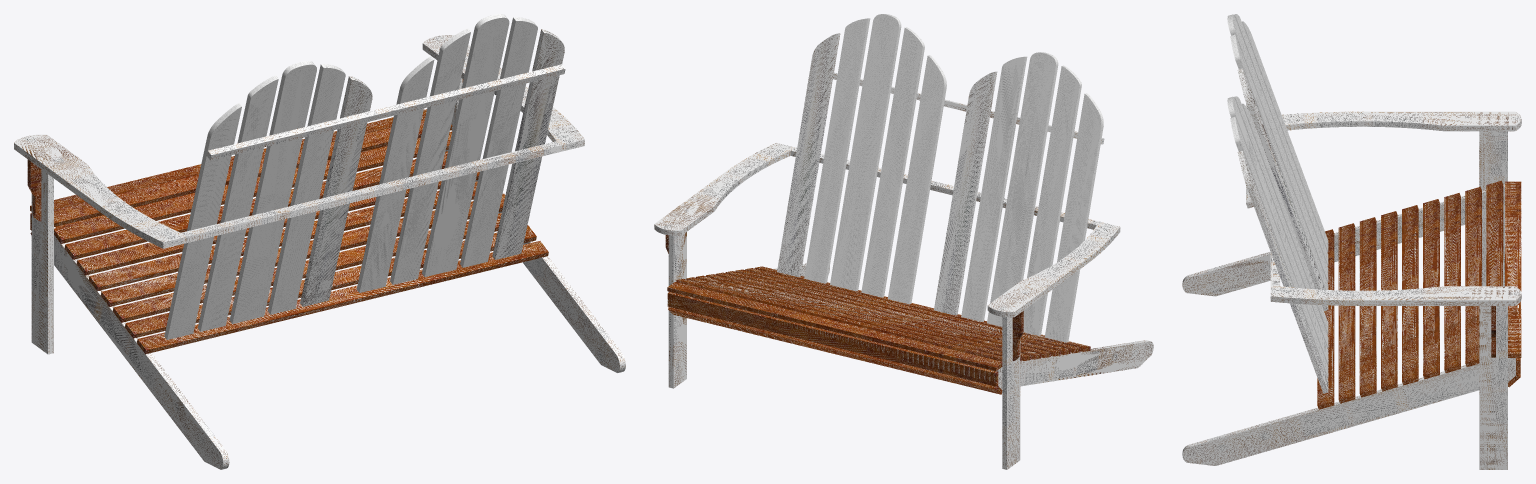
3 views of the same model, side by side, from view 1: azimuth 30°, elevation 25°; view 2: azimuth 150°, elevation 25°; view 3: azimuth 270°, elevation 25° (orthographic). The views are drawn at different scales.
Visible parts, largest first — view 1: mesh1_mesh1-geometry, mesh8_mesh8-geometry, mesh2_mesh2-geometry, mesh9_mesh9-geometry, mesh10_mesh10-geometry, mesh7_mesh7-geometry, mesh6_mesh6-geometry, mesh4_mesh4-geometry, mesh11_mesh11-geometry, mesh12_mesh12-geometry; view 2: mesh1_mesh1-geometry, mesh8_mesh8-geometry, mesh10_mesh10-geometry, mesh9_mesh9-geometry, mesh6_mesh6-geometry, mesh7_mesh7-geometry, mesh2_mesh2-geometry, mesh4_mesh4-geometry, mesh11_mesh11-geometry; view 3: mesh1_mesh1-geometry, mesh4_mesh4-geometry, mesh2_mesh2-geometry, mesh6_mesh6-geometry, mesh8_mesh8-geometry, mesh10_mesh10-geometry, mesh9_mesh9-geometry, mesh7_mesh7-geometry.
Boxes of the visible parts, <box> form: mesh1_mesh1-geometry: <box>30,109,548,354</box>; mesh8_mesh8-geometry: <box>229,14,509,323</box>; mesh2_mesh2-geometry: <box>14,134,229,469</box>; mesh9_mesh9-geometry: <box>198,28,470,331</box>; mesh10_mesh10-geometry: <box>267,17,537,314</box>; mesh7_mesh7-geometry: <box>164,56,434,339</box>; mesh6_mesh6-geometry: <box>300,29,564,306</box>; mesh4_mesh4-geometry: <box>422,35,625,372</box>; mesh11_mesh11-geometry: <box>181,141,561,242</box>; mesh12_mesh12-geometry: <box>207,64,565,160</box>; mesh1_mesh1-geometry: <box>667,266,1090,394</box>; mesh8_mesh8-geometry: <box>830,14,1058,326</box>; mesh10_mesh10-geometry: <box>804,18,1027,321</box>; mesh9_mesh9-geometry: <box>861,27,1081,335</box>; mesh6_mesh6-geometry: <box>777,33,997,315</box>; mesh7_mesh7-geometry: <box>887,55,1103,342</box>; mesh2_mesh2-geometry: <box>987,222,1153,469</box>; mesh4_mesh4-geometry: <box>654,142,829,388</box>; mesh11_mesh11-geometry: <box>790,147,1100,229</box>; mesh1_mesh1-geometry: <box>1317,180,1521,409</box>; mesh4_mesh4-geometry: <box>1182,286,1521,469</box>; mesh2_mesh2-geometry: <box>1182,111,1521,296</box>; mesh6_mesh6-geometry: <box>1237,68,1328,393</box>; mesh8_mesh8-geometry: <box>1227,14,1328,364</box>; mesh10_mesh10-geometry: <box>1230,34,1328,378</box>; mesh9_mesh9-geometry: <box>1234,14,1328,348</box>; mesh7_mesh7-geometry: <box>1242,21,1328,334</box>.
Size of the model in its own units: 0.6726 by 0.536 by 0.5102.
